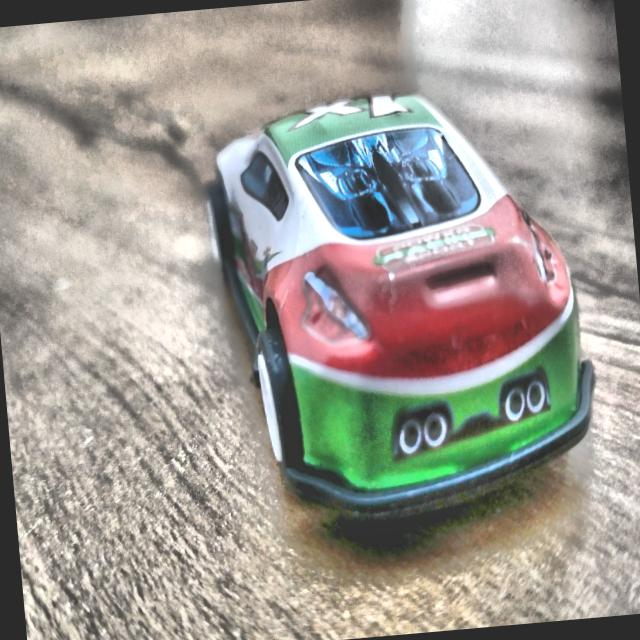Car: (195, 72, 618, 558)
